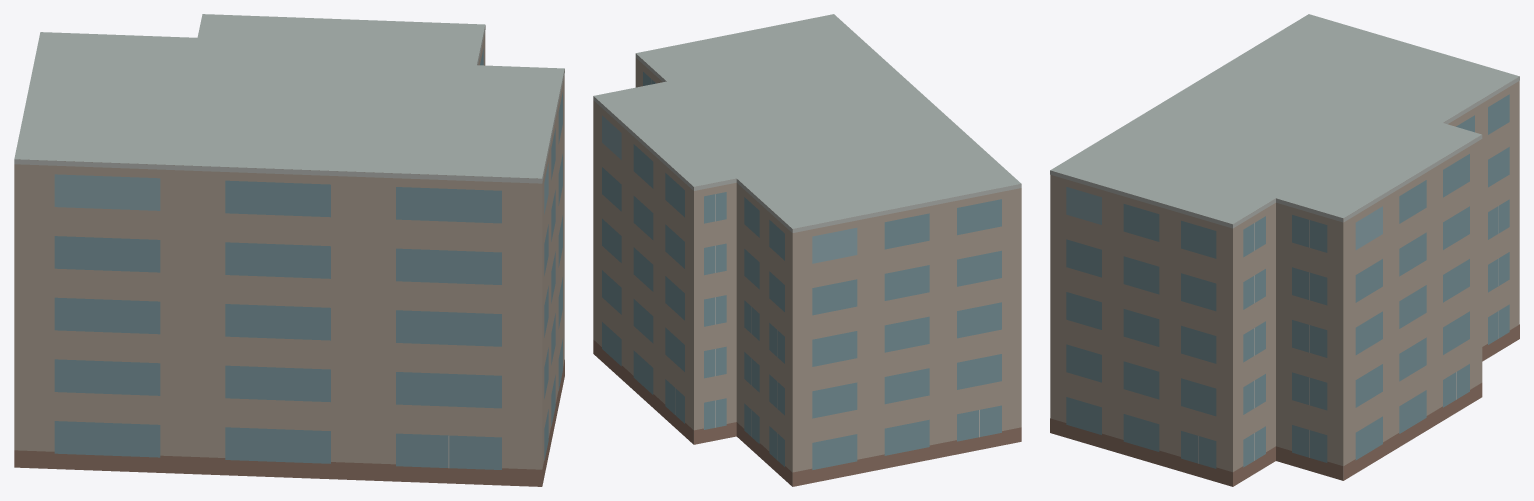
The model's file is residential-ea43771b-832c-4cdb-b564-5db2d2ac7c1d.glb.
The picture shows the model from 3 angles, left to right: view 1: azimuth 30°, elevation 25°; view 2: azimuth 150°, elevation 25°; view 3: azimuth 270°, elevation 25°; orthographic projection. The views are drawn at different scales.
Parts seen in each view (by area): view 1: residential-ea43771b-832c-4cdb-b564-5db2d2ac7c1d.tmp; view 2: residential-ea43771b-832c-4cdb-b564-5db2d2ac7c1d.tmp; view 3: residential-ea43771b-832c-4cdb-b564-5db2d2ac7c1d.tmp.
Part boxes in pixels (x1=…): residential-ea43771b-832c-4cdb-b564-5db2d2ac7c1d.tmp: x1=14, y1=14, x2=564, y2=486; residential-ea43771b-832c-4cdb-b564-5db2d2ac7c1d.tmp: x1=593, y1=14, x2=1021, y2=486; residential-ea43771b-832c-4cdb-b564-5db2d2ac7c1d.tmp: x1=1050, y1=14, x2=1519, y2=486.
Size of the model in its own units: 25.77 by 15 by 24.32.
